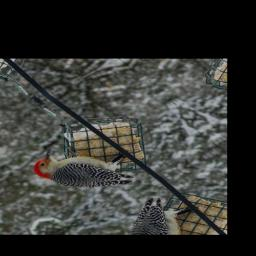Woodpecker: (23, 127, 151, 209)
